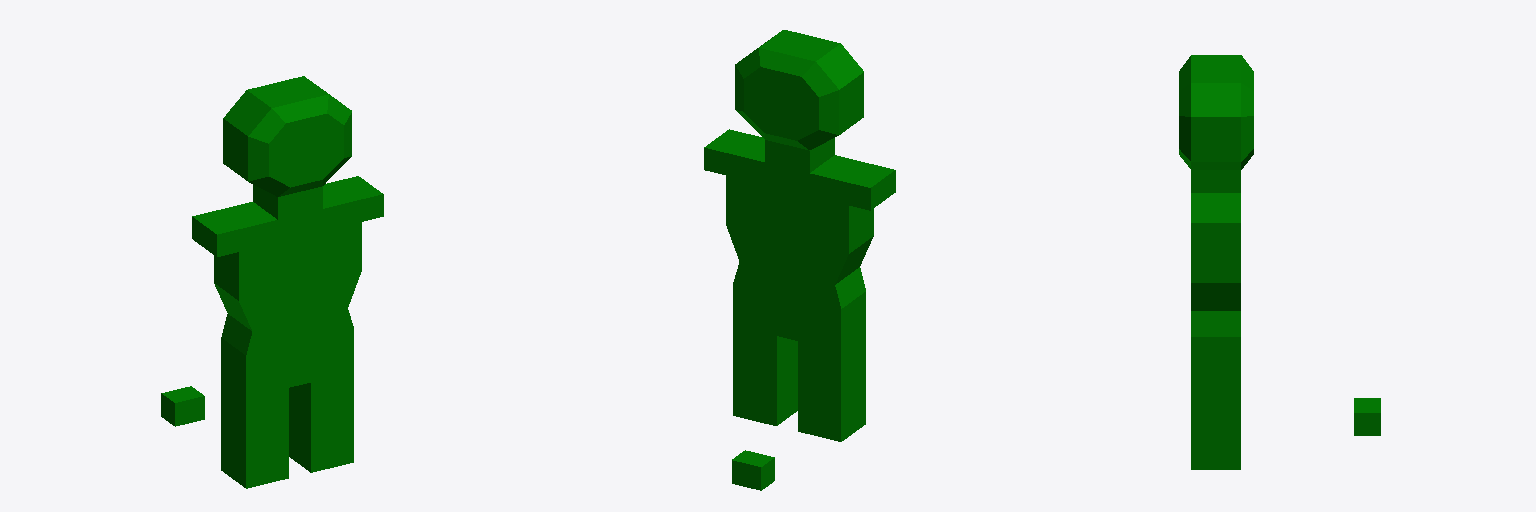
Rendered from player.obj.
3 views of the same model, side by side, from view 1: azimuth 30°, elevation 25°; view 2: azimuth 150°, elevation 25°; view 3: azimuth 270°, elevation 25° (orthographic).
Parts seen in each view (by area): view 1: Box001; view 2: Box001; view 3: Box001.
Boxes of the visible parts, x1,y1,x2,y2 form: Box001: [161, 76, 383, 488]; Box001: [704, 30, 895, 490]; Box001: [1179, 55, 1380, 469].
Bounding box in the file's own units: 76.94 × 165 × 80.94.